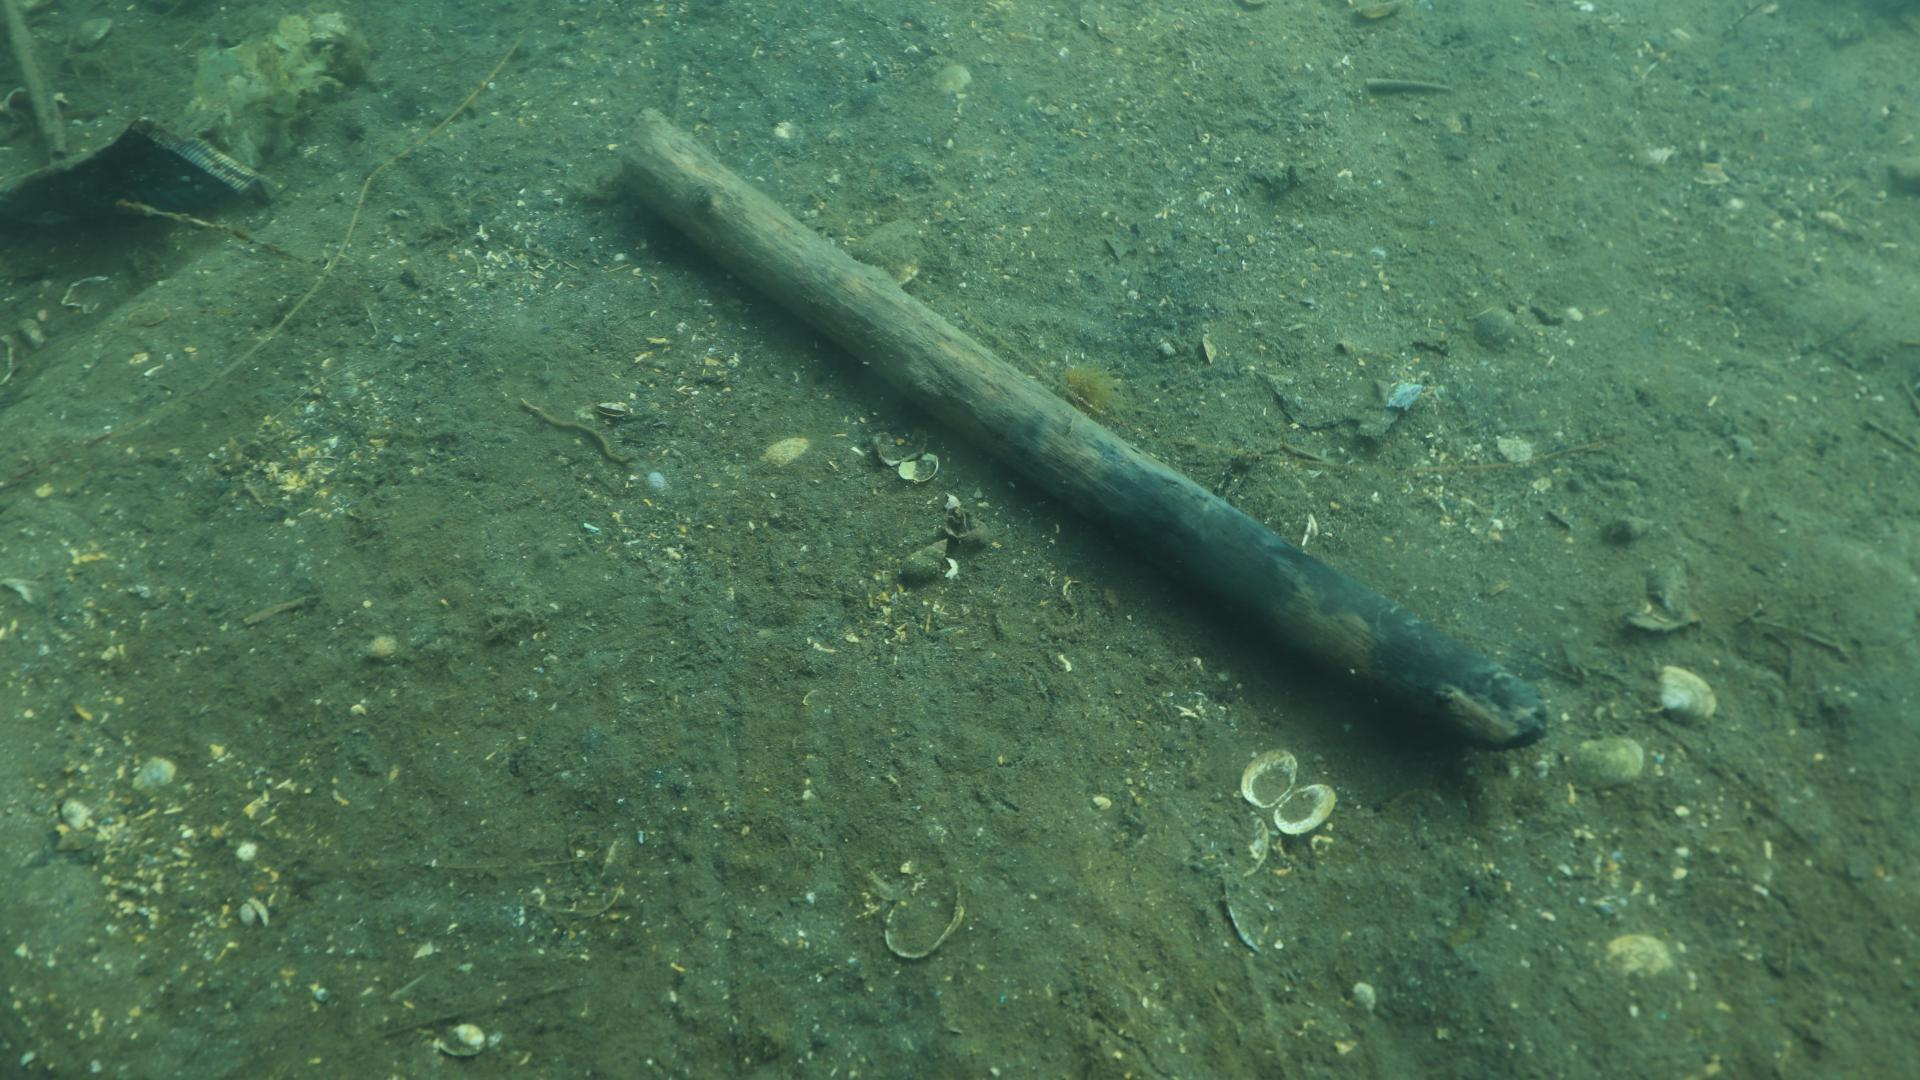wood: (617, 103, 1547, 750)
